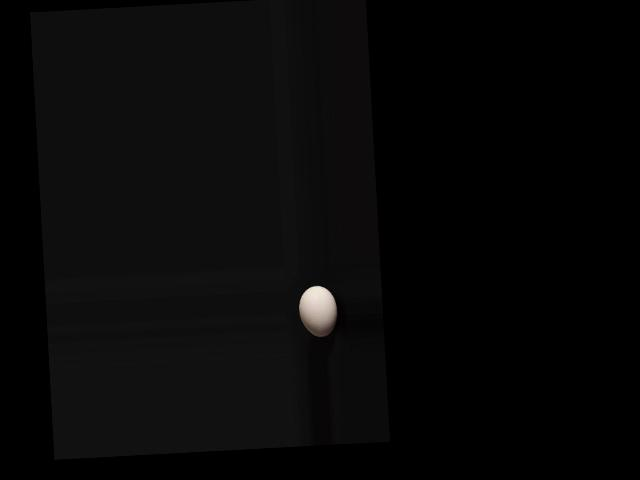egg: (298, 284, 338, 337)
